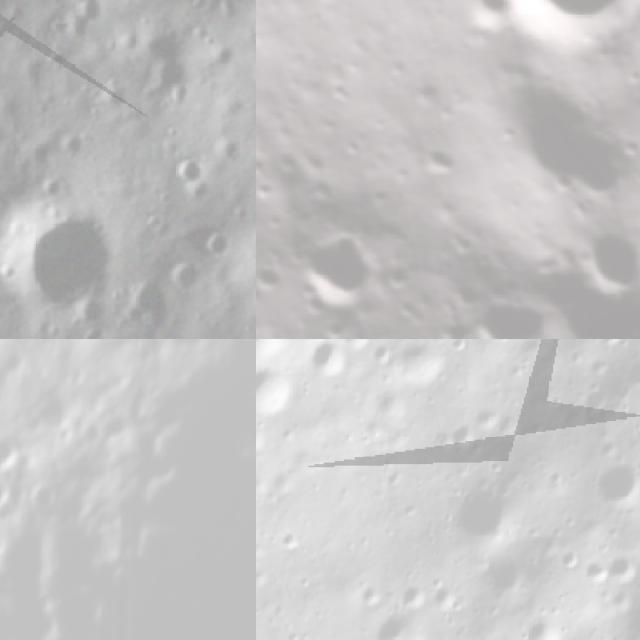crater: (460, 35, 640, 247), (2, 192, 127, 320), (271, 212, 394, 335), (465, 0, 621, 63), (559, 203, 640, 323), (597, 88, 640, 301), (455, 265, 575, 339), (440, 472, 529, 559), (580, 447, 640, 526), (406, 128, 470, 194), (474, 550, 541, 612), (385, 339, 457, 396), (448, 0, 525, 47), (256, 356, 305, 425), (304, 339, 360, 389), (120, 280, 172, 327), (426, 570, 472, 620), (467, 393, 513, 442), (367, 605, 427, 640), (256, 253, 294, 307), (168, 250, 209, 298), (572, 377, 614, 422), (430, 305, 484, 339), (25, 473, 64, 520), (600, 547, 640, 590), (519, 607, 571, 640), (441, 420, 481, 462), (394, 579, 432, 617), (616, 342, 640, 395), (169, 158, 208, 190), (364, 339, 401, 372), (205, 228, 237, 264), (0, 432, 24, 479), (256, 201, 270, 262), (596, 339, 633, 350)
